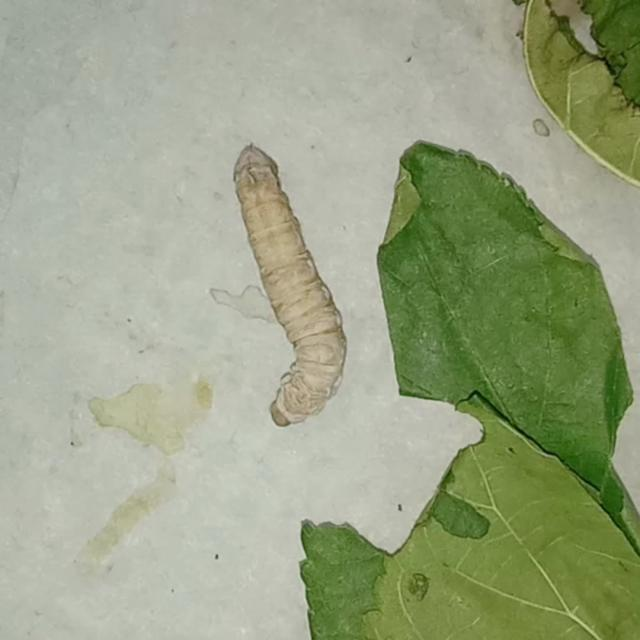Grasserie: (208, 122, 361, 436)
